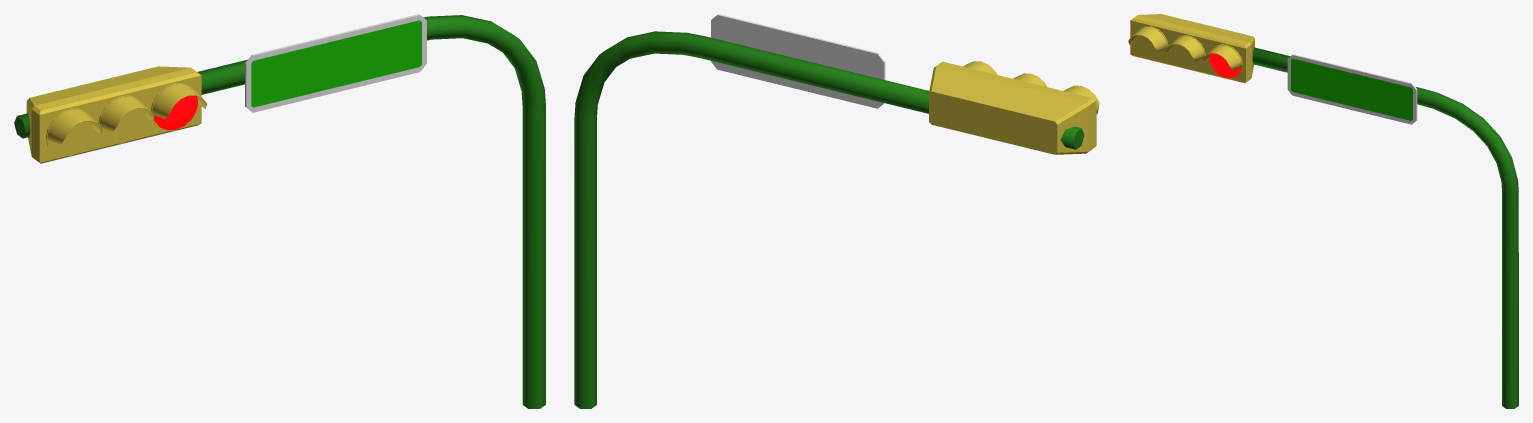
The model's file is semaforo 1.fbx.
3 renders of one model, left to right at view 1: azimuth 30°, elevation 25°; view 2: azimuth 150°, elevation 25°; view 3: azimuth 330°, elevation 25°, orthographic. The views are drawn at different scales.
Visible parts, largest first — view 1: Poste.001, Plane.001, Semaforo.001, Cubierta.001, verde.003; view 2: Poste.001, Semaforo.001, Plane.001, Cubierta.001; view 3: Poste.001, Plane.001, Semaforo.001, Cubierta.001, verde.003.
Boxes of the visible parts, <box> form: Poste.001: <box>14,15,545,408</box>; Plane.001: <box>245,14,426,112</box>; Semaforo.001: <box>26,66,201,163</box>; Cubierta.001: <box>46,82,206,156</box>; verde.003: <box>154,95,197,130</box>; Poste.001: <box>574,31,1084,408</box>; Semaforo.001: <box>929,61,1096,154</box>; Plane.001: <box>711,14,885,108</box>; Cubierta.001: <box>963,61,1099,114</box>; Poste.001: <box>1252,47,1518,408</box>; Plane.001: <box>1287,54,1417,124</box>; Semaforo.001: <box>1130,14,1254,83</box>; Cubierta.001: <box>1128,26,1243,78</box>; verde.003: <box>1209,53,1241,78</box>.
Size of the model in its own units: 258 by 203 by 35.12.
